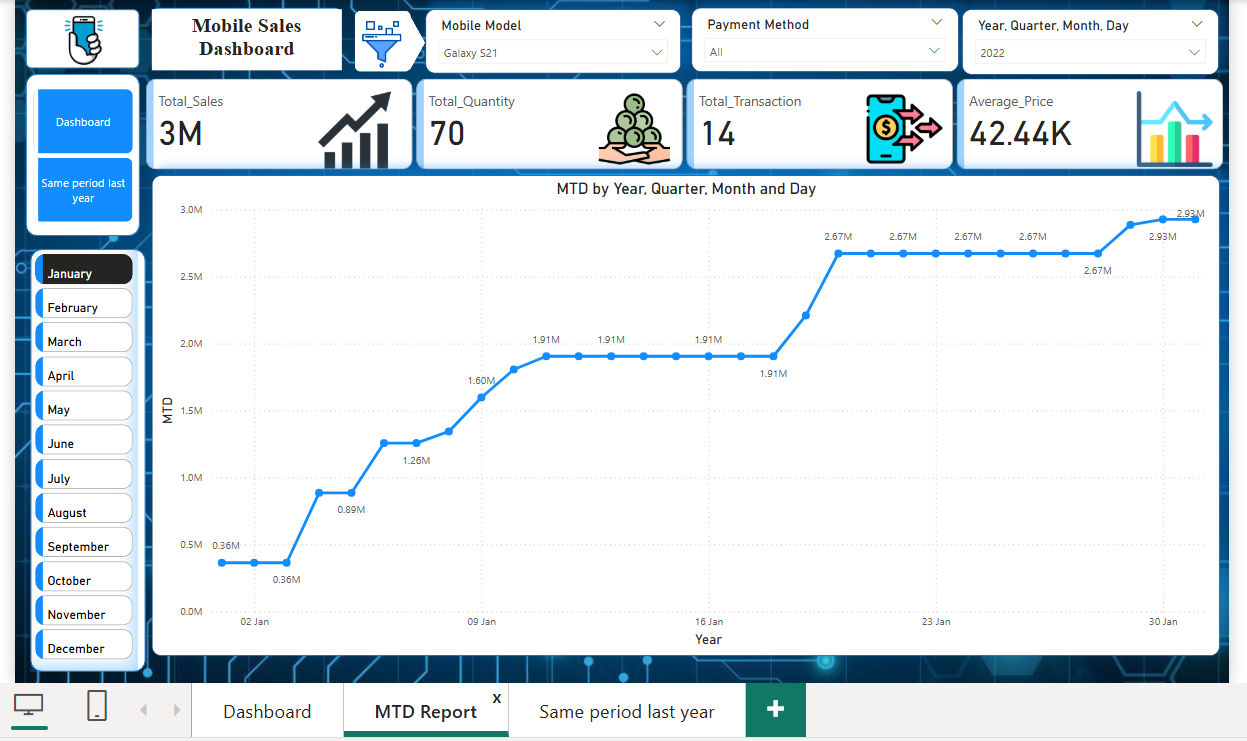

What the dashboard file says about the page in this screenshot:
{"tool":"powerbi","page":{"name":"MTD Report","canvas":[1280,720],"ordinal":1},"visuals":[{"type":"shape","box":[11.9,10.2,120.3,62.7],"z":0},{"type":"image","box":[35.6,5.1,72.9,72.9],"z":1000},{"type":"shape","box":[11.9,78,120.3,171.2],"z":2000},{"type":"cardVisual","fields":{"Data":["Sales_Data.Toatal_Sales","Sales_Data.Total_Quantity","Sales_Data.Total_Transaction","Sales_Data.Average_Price"]},"box":[132.2,78,1147.5,106.8],"z":3000},{"type":"slicer","fields":{"Values":["Sales_Data.Mobile Model"]},"box":[432.2,10.2,269.5,67.8],"z":4000},{"type":"slicer","fields":{"Values":["Sales_Data.Payment Method"]},"box":[713.6,8.5,281.4,67.8],"z":5000},{"type":"slicer","fields":{"Values":["CUSTOM_CALENDER.Date.Variation.Date Hierarchy.Year","CUSTOM_CALENDER.Date.Variation.Date Hierarchy.Quarter","CUSTOM_CALENDER.Date.Variation.Date Hierarchy.Month","CUSTOM_CALENDER.Date.Variation.Date Hierarchy.Day"]},"box":[998.4,9.8,270.5,68.9],"z":6000},{"type":"shape","box":[357.6,11.9,59.3,64.4],"z":7000},{"type":"shape","box":[400,16.9,32.2,57.6],"z":8000},{"type":"image","box":[311.5,16.4,150.8,60.7],"z":9000},{"type":"shape","box":[144.1,8.5,200,66.1],"z":10000},{"type":"textbox","box":[144.1,10.2,200,64.4],"z":11000},{"type":"lineChart","fields":{"Category":["CUSTOM_CALENDER.Date.Variation.Date Hierarchy.Year","CUSTOM_CALENDER.Date.Variation.Date Hierarchy.Quarter","CUSTOM_CALENDER.Date.Variation.Date Hierarchy.Month","CUSTOM_CALENDER.Date.Variation.Date Hierarchy.Day"],"Y":["Sales_Data.MTD"]},"box":[144.5,184,1126,506.6],"z":12000},{"type":"shape","box":[16.2,262.6,121.6,445.8],"z":13000},{"type":"advancedSlicerVisual","fields":{"Values":["CUSTOM_CALENDER.Date.Variation.Date Hierarchy.Month"]},"box":[16.9,262.7,113.6,445.8],"z":14000},{"type":"pageNavigator","box":[19.5,94,105.4,141],"z":15000}]}

Visuals, with their boxes on the page's 1280x720 design canvas (x1, y1, x2, y2). These are canvas units, not pixel positions in the 1247x741 screenshot, which may show the page scaled, cropped or inside an application window:
shape: region(12, 10, 132, 73)
image: region(36, 5, 108, 78)
shape: region(12, 78, 132, 249)
cardVisual - Sales_Data.Toatal_Sales x Sales_Data.Total_Quantity: region(132, 78, 1280, 185)
slicer - Sales_Data.Mobile Model: region(432, 10, 702, 78)
slicer - Sales_Data.Payment Method: region(714, 8, 995, 76)
slicer - CUSTOM_CALENDER.Date.Variation.Date Hierarchy.Year x CUSTOM_CALENDER.Date.Variation.Date Hierarchy.Quarter: region(998, 10, 1269, 79)
shape: region(358, 12, 417, 76)
shape: region(400, 17, 432, 74)
image: region(312, 16, 462, 77)
shape: region(144, 8, 344, 75)
textbox: region(144, 10, 344, 75)
lineChart - CUSTOM_CALENDER.Date.Variation.Date Hierarchy.Year x CUSTOM_CALENDER.Date.Variation.Date Hierarchy.Quarter: region(144, 184, 1270, 691)
shape: region(16, 263, 138, 708)
advancedSlicerVisual - CUSTOM_CALENDER.Date.Variation.Date Hierarchy.Month: region(17, 263, 130, 708)
pageNavigator: region(20, 94, 125, 235)
